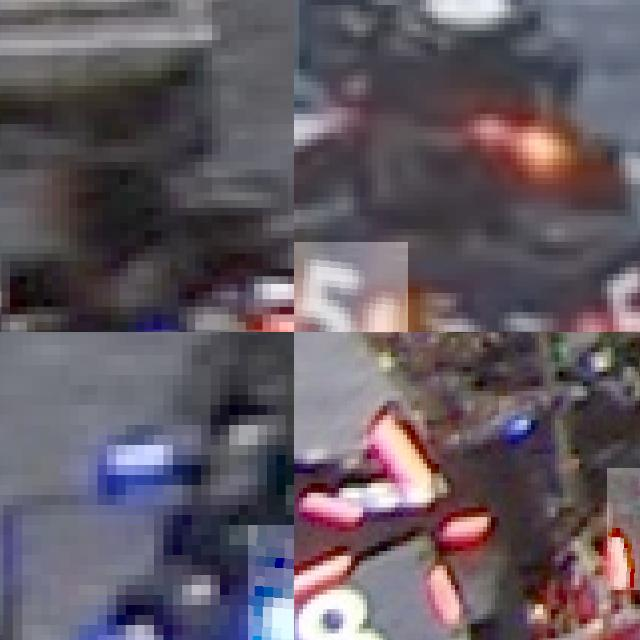B3: (60, 605, 201, 640)
R5: (294, 242, 408, 332), (583, 261, 640, 332)
